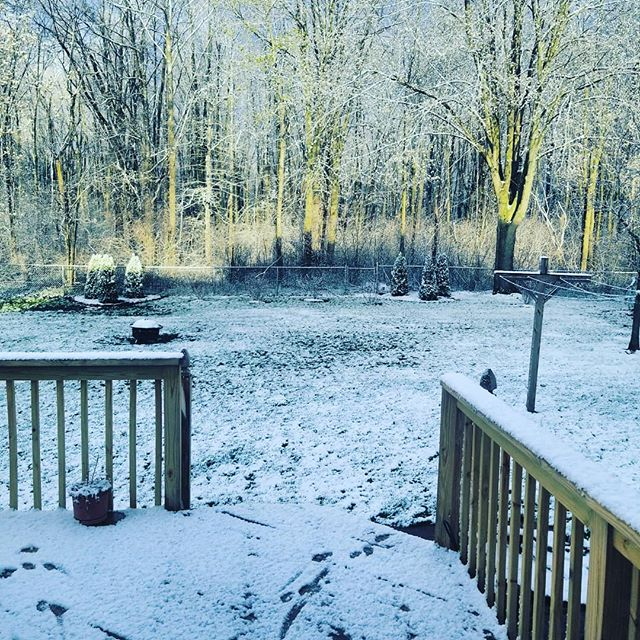vegetation: (1, 1, 640, 286)
